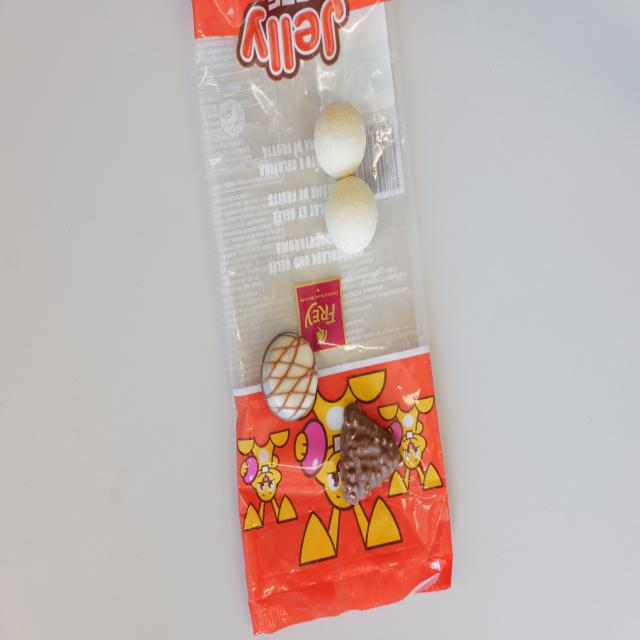Comtesse: (314, 102, 367, 178), (327, 178, 379, 254)
Creme_brulee: (261, 331, 317, 420)
Triangolo: (337, 403, 402, 508)
